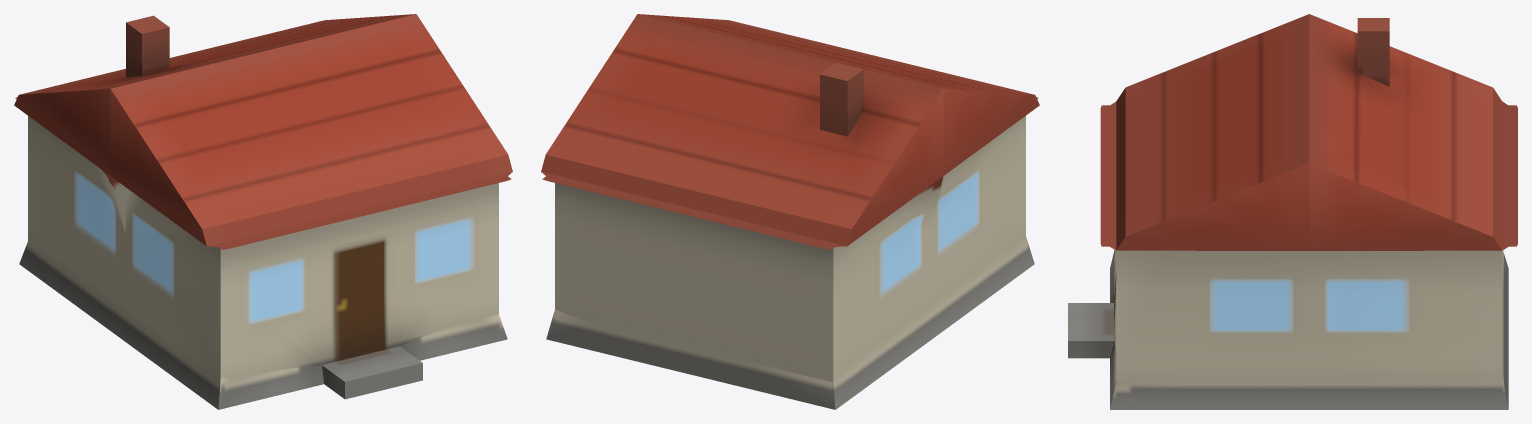
File: house_edits.far.glb
The picture shows the model from 3 angles, left to right: view 1: azimuth 30°, elevation 25°; view 2: azimuth 150°, elevation 25°; view 3: azimuth 270°, elevation 25°; orthographic projection.
Visible parts, largest first — view 1: house_edits; view 2: house_edits; view 3: house_edits.
Boxes of the visible parts, x1=… form: house_edits: x1=14, y1=14, x2=512, y2=409; house_edits: x1=541, y1=14, x2=1039, y2=409; house_edits: x1=1068, y1=14, x2=1517, y2=409.
Size of the model in its own units: 5.5 by 4.7 by 6.99.
Materials: 1 (1 with a texture image).
